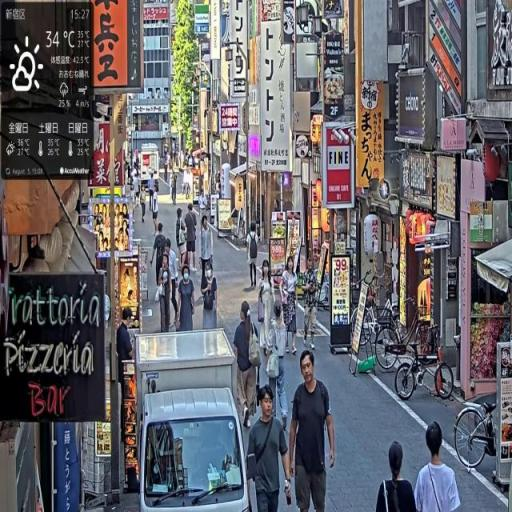person: (289, 346, 337, 512), (246, 385, 294, 512), (414, 420, 463, 512), (233, 302, 263, 428), (374, 441, 417, 512), (281, 257, 300, 358), (176, 261, 197, 334), (201, 261, 219, 337), (185, 203, 200, 275), (249, 224, 260, 293)
